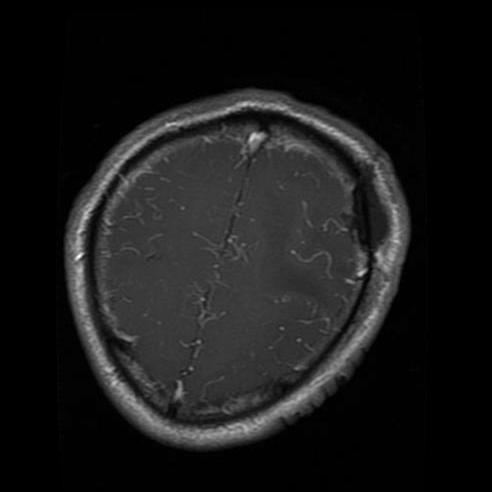Tumour-Glioma: (330, 161, 400, 261)
